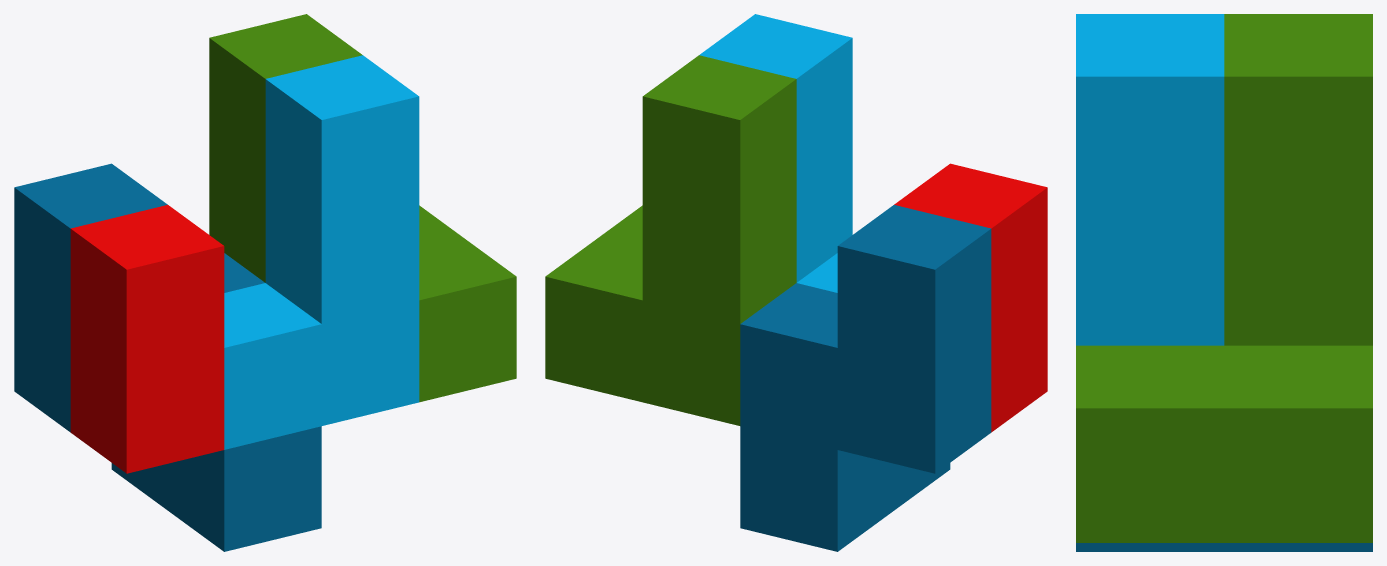
3 views of the same model, side by side, from view 1: azimuth 30°, elevation 25°; view 2: azimuth 150°, elevation 25°; view 3: azimuth 270°, elevation 25° (orthographic). The views are drawn at different scales.
Parts seen in each view (by area): view 1: mergedBlocks(Clone); view 2: mergedBlocks(Clone); view 3: mergedBlocks(Clone).
Boxes of the visible parts, x1,y1,x2,y2 form: mergedBlocks(Clone): (14, 14, 516, 551); mergedBlocks(Clone): (545, 14, 1047, 551); mergedBlocks(Clone): (1076, 14, 1372, 551).
Size of the model in its own units: 4 by 4 by 2.
4 materials, 4 textured.
